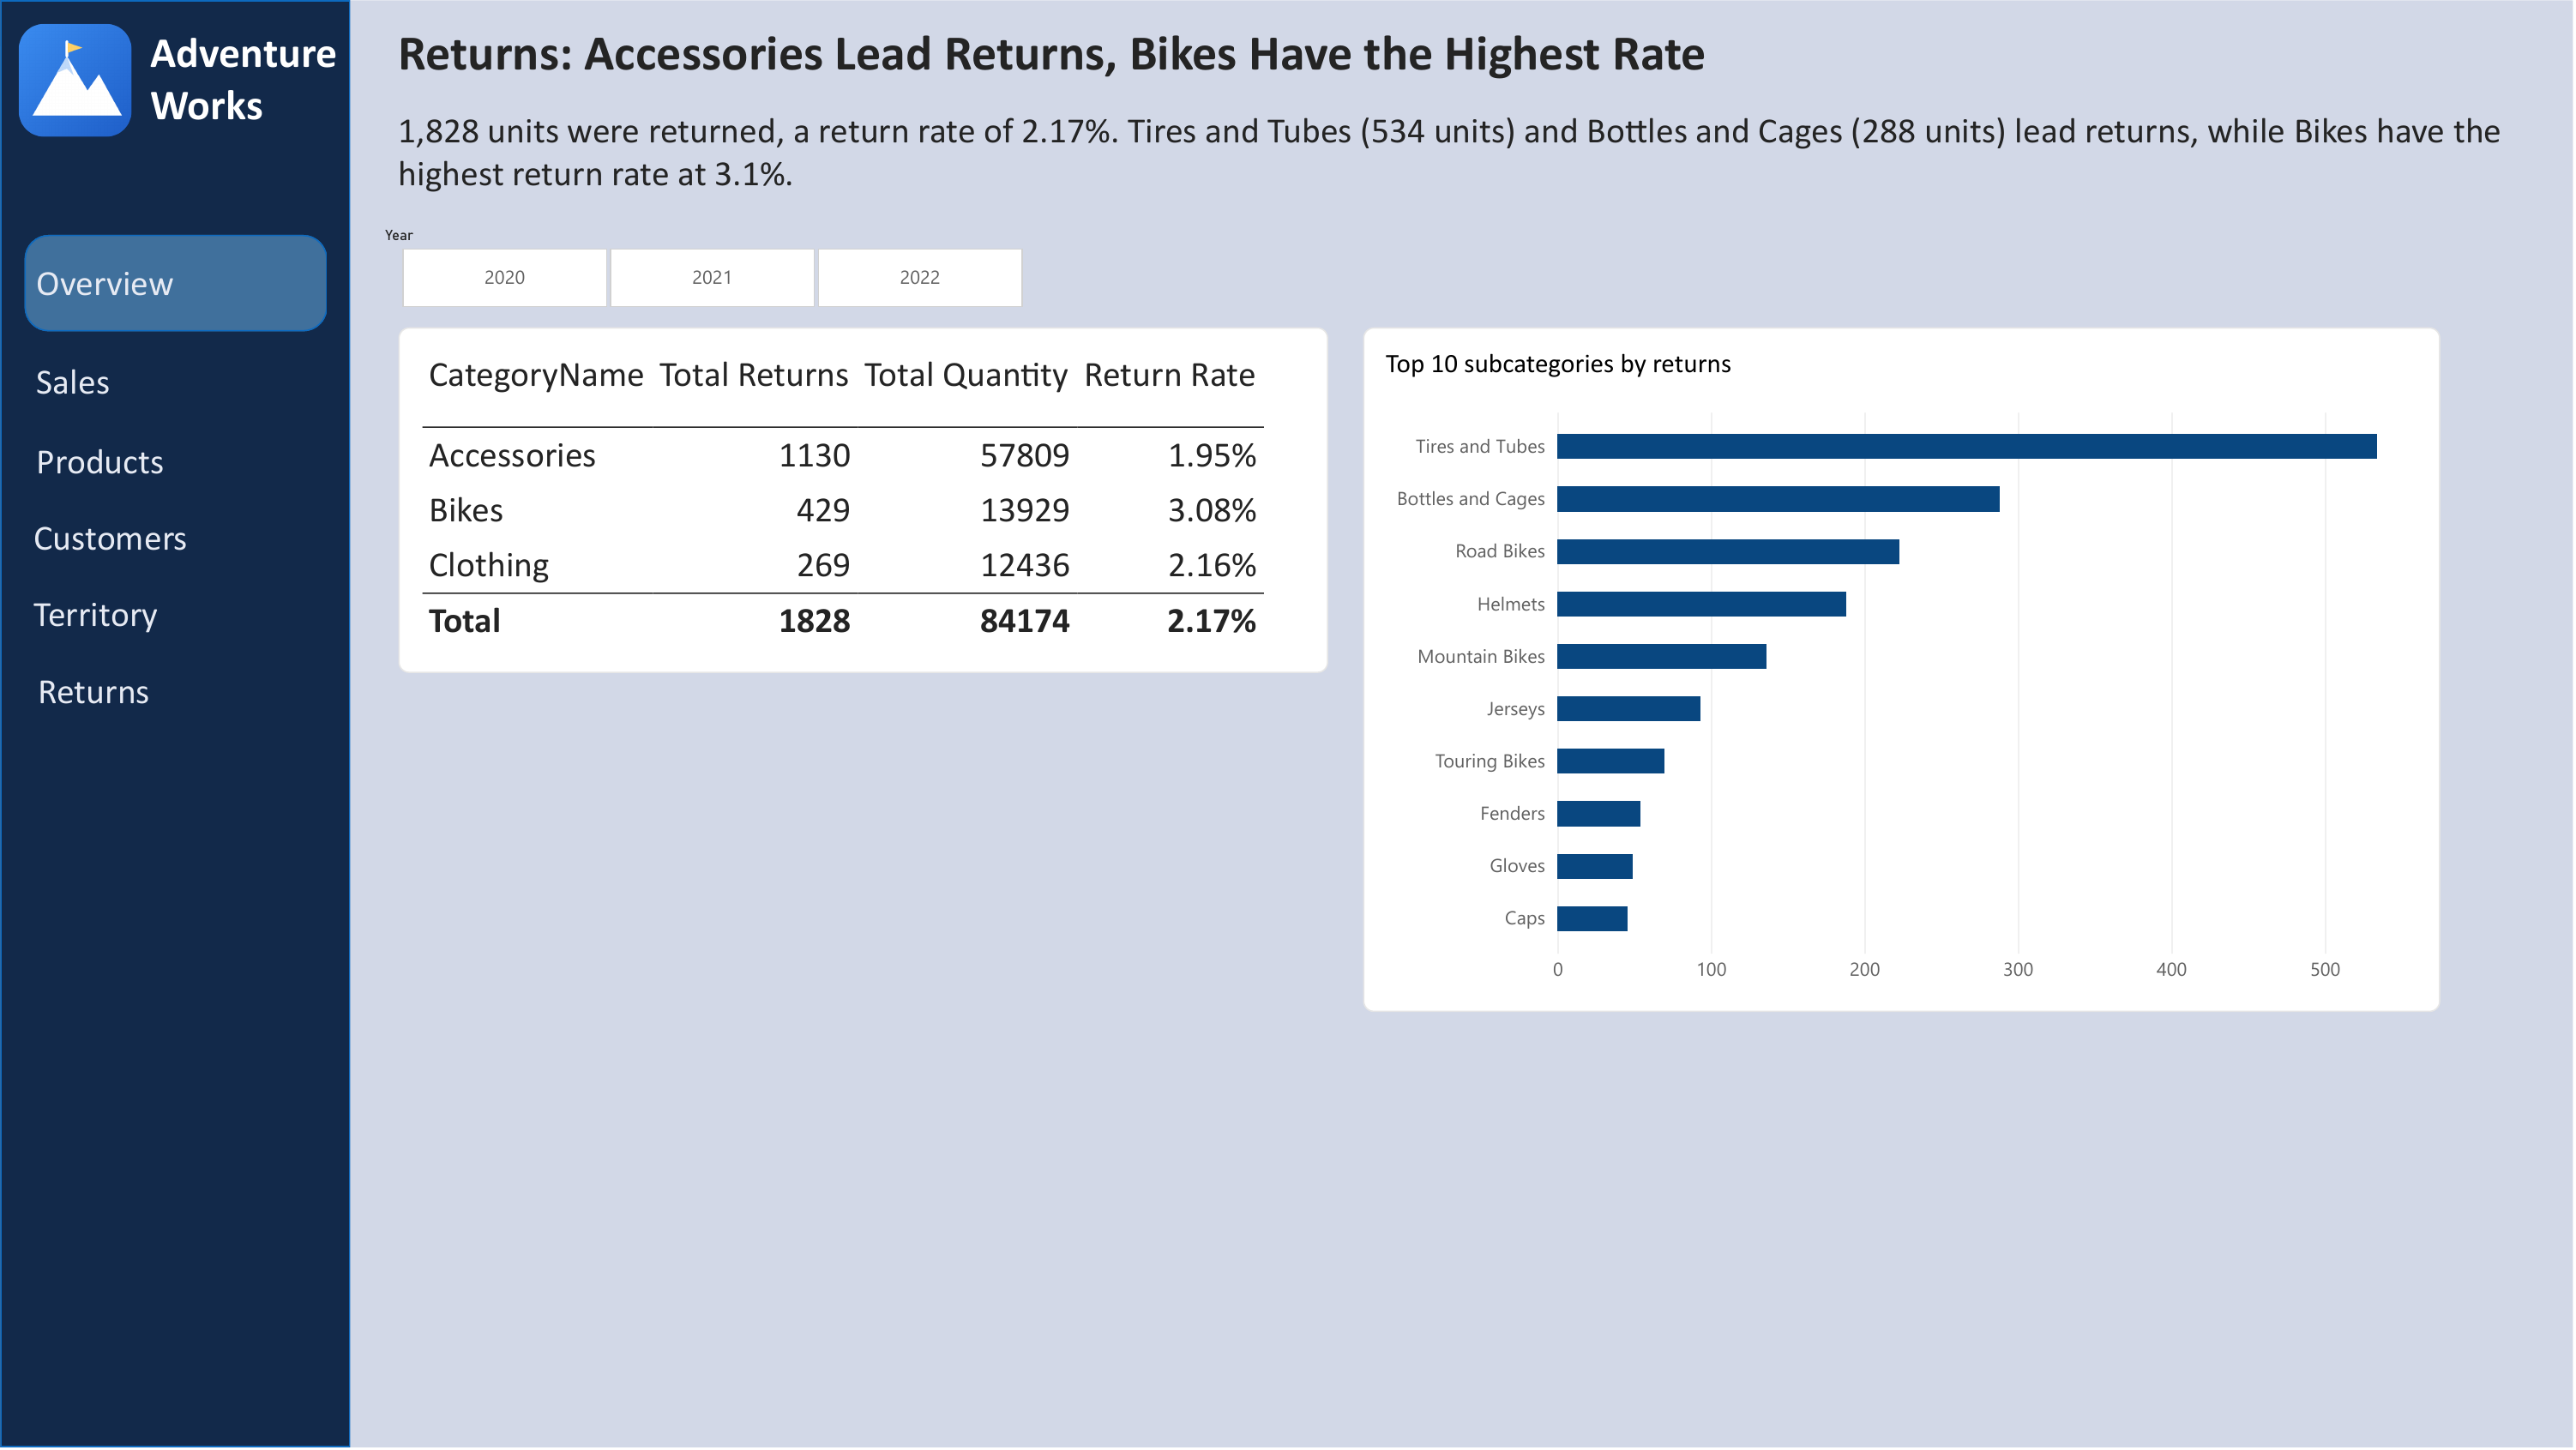

This screenshot's page, from the dashboard's own definition file:
{"tool":"powerbi","page":{"name":"Returns","canvas":[1920,1080],"ordinal":5},"visuals":[{"type":"slicer","fields":{"Values":["dim_Calendar.Year"]},"box":[279.1,169.2,502.5,62],"z":0},{"type":"textbox","box":[296.5,15.7,1623.8,141.3],"z":1000},{"type":"tableEx","fields":{"Values":["dim_Category.CategoryName","fact_Sales.Total Returns","fact_Sales.Total Quantity","fact_Sales.Return Rate"]},"box":[296.5,244.2,694.2,258.1],"z":2000},{"type":"clusteredBarChart","title":"Top 10 subcategories by returns","fields":{"Category":["dim_Subcategory.SubcategoryName"],"Y":["fact_Sales.Total Returns"]},"box":[1016.9,244.2,804.1,511],"z":3000},{"type":"shape","box":[0,0,261.1,1080],"z":3001},{"type":"textbox","box":[112,20,253,150],"z":3002},{"type":"image","box":[12,16,86.7,86.7],"z":3003},{"type":"shape","box":[17.7,174.6,226.5,72.9],"z":3004},{"type":"textbox","box":[26.9,194.9,301,63.4],"z":3005},{"type":"textbox","box":[26.9,269.3,301,36.4],"z":3006},{"type":"textbox","box":[25.3,442,196.4,33.3],"z":3007},{"type":"textbox","box":[25.3,385,213.9,34.9],"z":3008},{"type":"textbox","box":[26.9,327.9,299.4,42.8],"z":3009},{"type":"textbox","box":[28.3,500,102.5,32.5],"z":3010},{"type":"actionButton","box":[23.3,265.8,69.2,40],"z":3011},{"type":"actionButton","box":[25,328.3,107.5,42.5],"z":3012},{"type":"actionButton","box":[25,389.2,118.3,40],"z":3013},{"type":"actionButton","box":[25,438.3,99.2,40],"z":3014},{"type":"actionButton","box":[26.7,490,100,50],"z":3015},{"type":"actionButton","box":[18.4,170.8,202.7,77],"z":3016}]}

Visuals, with their boxes on the page's 1920x1080 design canvas (x1, y1, x2, y2). These are canvas units, not pixel positions in the 2576x1450 screenshot, which may show the page scaled, cropped or inside an application window:
slicer - dim_Calendar.Year: bbox(279, 169, 782, 231)
textbox: bbox(296, 16, 1920, 157)
tableEx - dim_Category.CategoryName x fact_Sales.Total Returns: bbox(296, 244, 991, 502)
"Top 10 subcategories by returns" clusteredBarChart: bbox(1017, 244, 1821, 755)
shape: bbox(0, 0, 261, 1080)
textbox: bbox(112, 20, 365, 170)
image: bbox(12, 16, 99, 103)
shape: bbox(18, 175, 244, 248)
textbox: bbox(27, 195, 328, 258)
textbox: bbox(27, 269, 328, 306)
textbox: bbox(25, 442, 222, 475)
textbox: bbox(25, 385, 239, 420)
textbox: bbox(27, 328, 326, 371)
textbox: bbox(28, 500, 131, 532)
actionButton: bbox(23, 266, 92, 306)
actionButton: bbox(25, 328, 132, 371)
actionButton: bbox(25, 389, 143, 429)
actionButton: bbox(25, 438, 124, 478)
actionButton: bbox(27, 490, 127, 540)
actionButton: bbox(18, 171, 221, 248)
